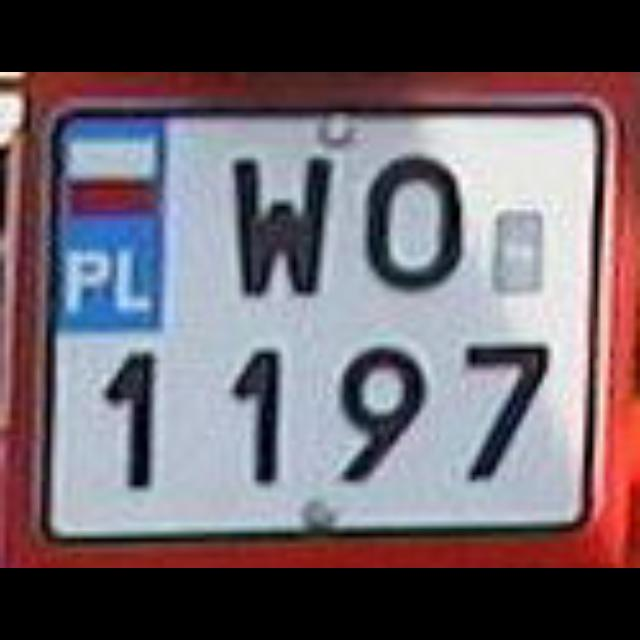pl_license_plate: (47, 103, 599, 533)
